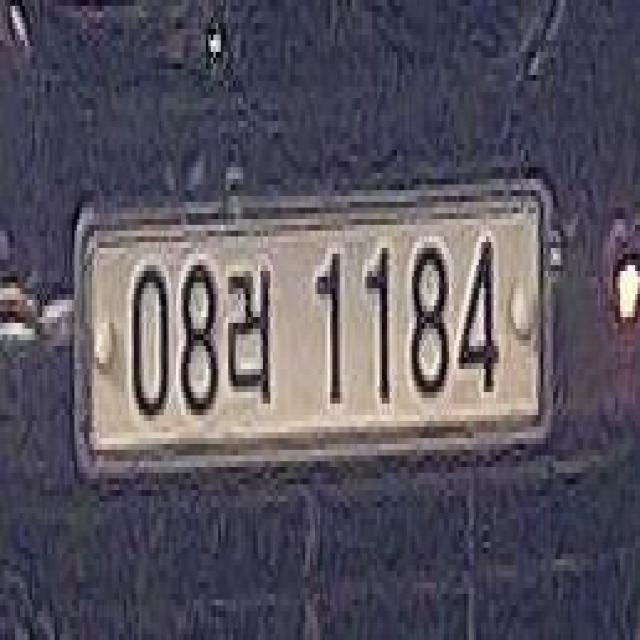illegal_plate: (81, 183, 548, 484)
